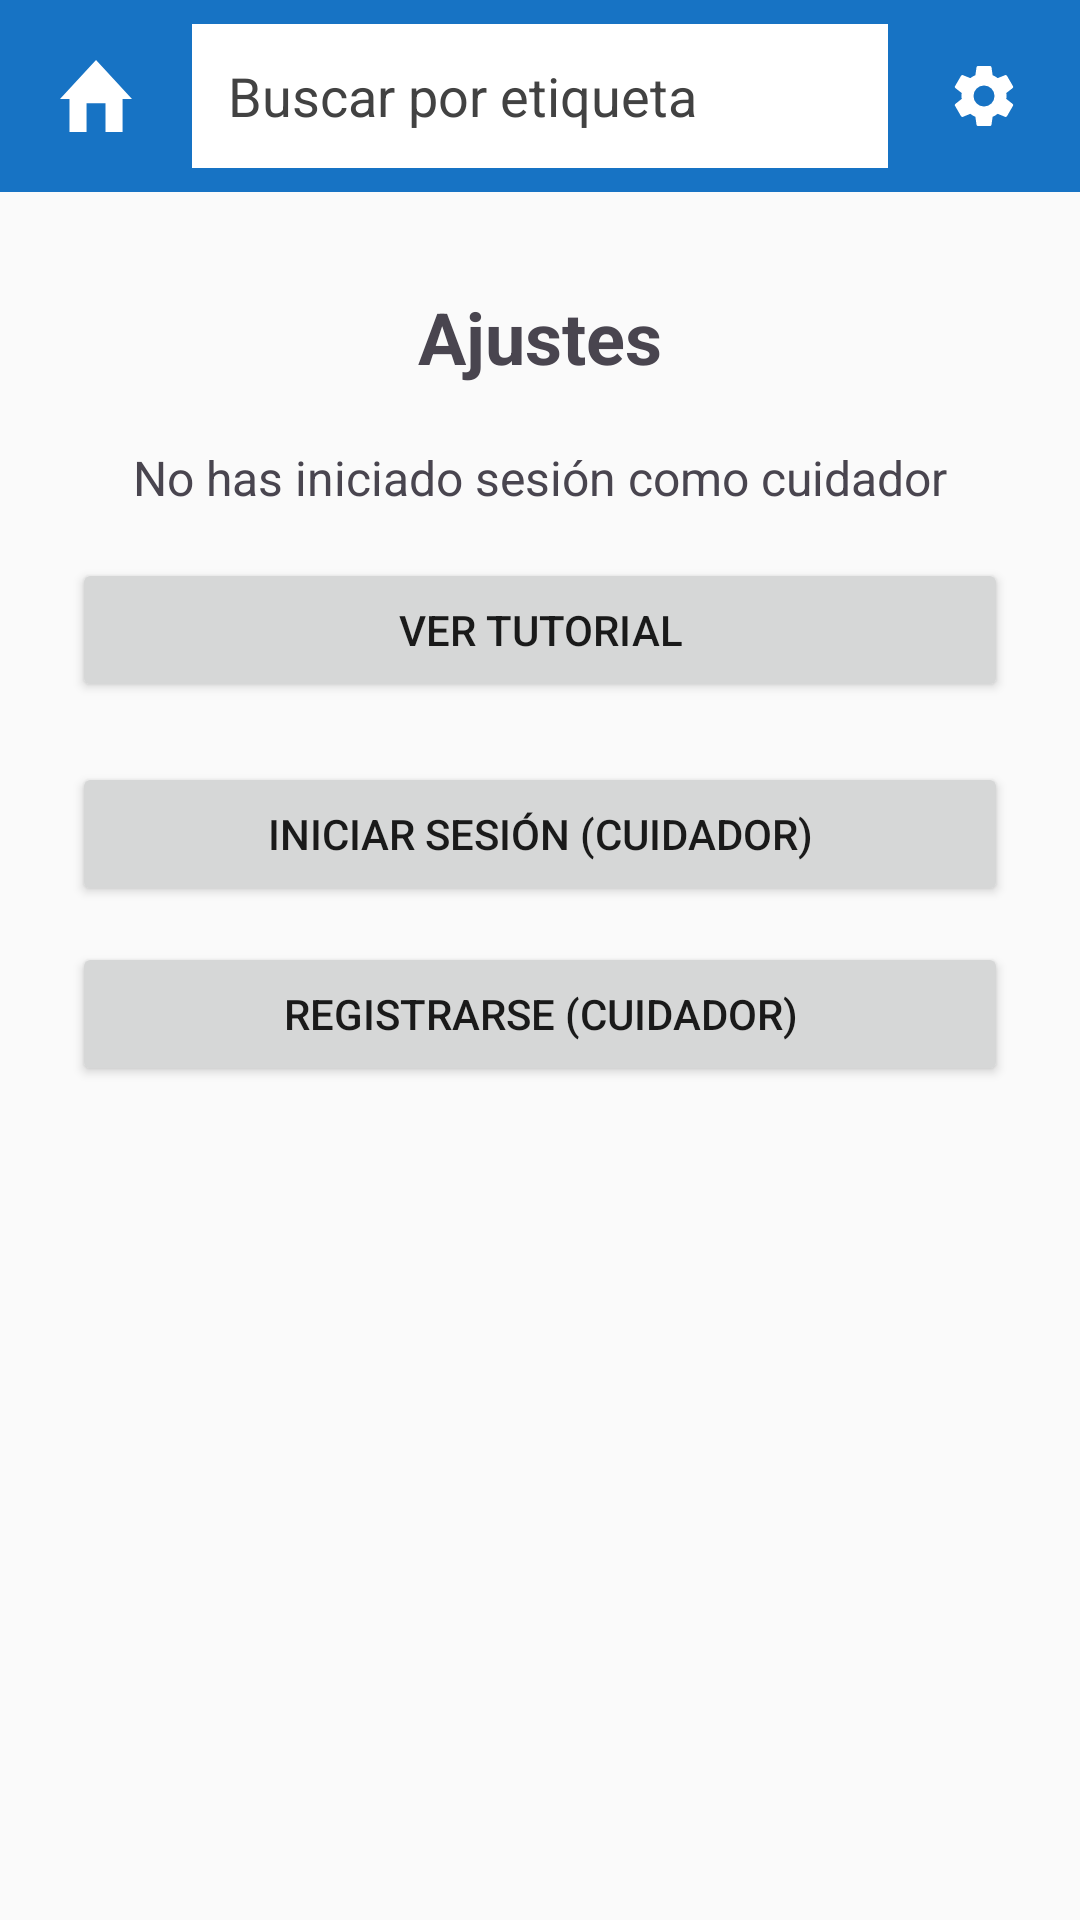

Where icons sit on this 1080 x 1920 app screen, as (x1, y1, x2, y2):
Ajustes: (954, 66, 1013, 126)
Inicio: (60, 60, 132, 132)
